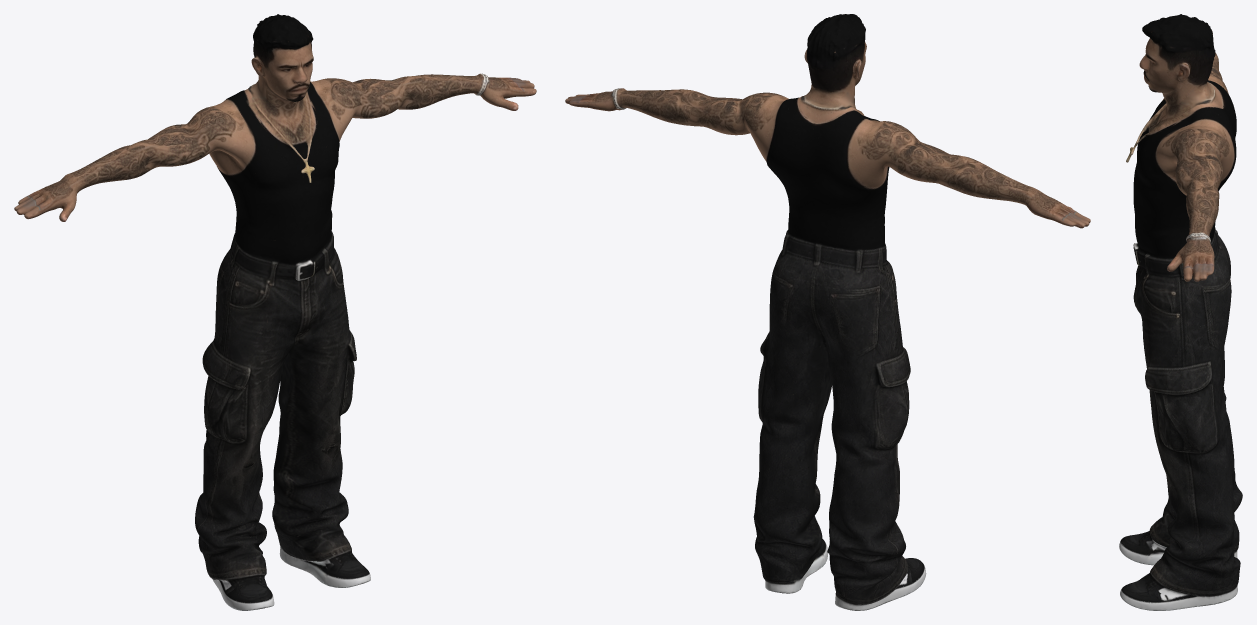
File: Meshy_AI_Tatted_in_Black_20261028_texture.fbx
The picture shows the model from 3 angles, left to right: view 1: azimuth 30°, elevation 25°; view 2: azimuth 150°, elevation 25°; view 3: azimuth 270°, elevation 25°; orthographic projection.
Parts seen in each view (by area): view 1: Mesh_0; view 2: Mesh_0; view 3: Mesh_0.
Part boxes in pixels (x1,y1,x2,y2): Mesh_0: [14, 14, 536, 610]; Mesh_0: [565, 14, 1090, 610]; Mesh_0: [1119, 14, 1242, 610].
Size of the model in its own units: 182 by 190 by 37.75.
1 material, 1 textured.
